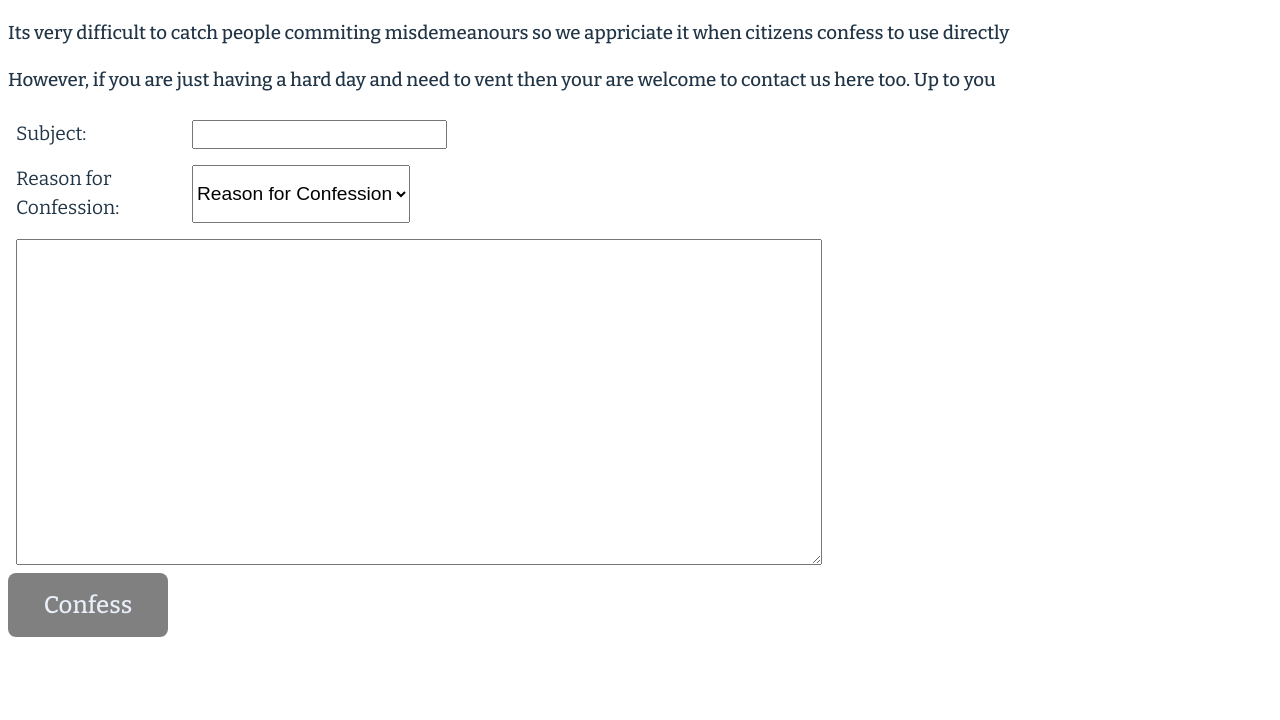
Test: <button/> › When the component is rendered and       Given userInputs are valid,        then button is endabled
In the field labelled "Subject:": (320, 135) [192, 120, 447, 149], type "Helloooo...!!!"
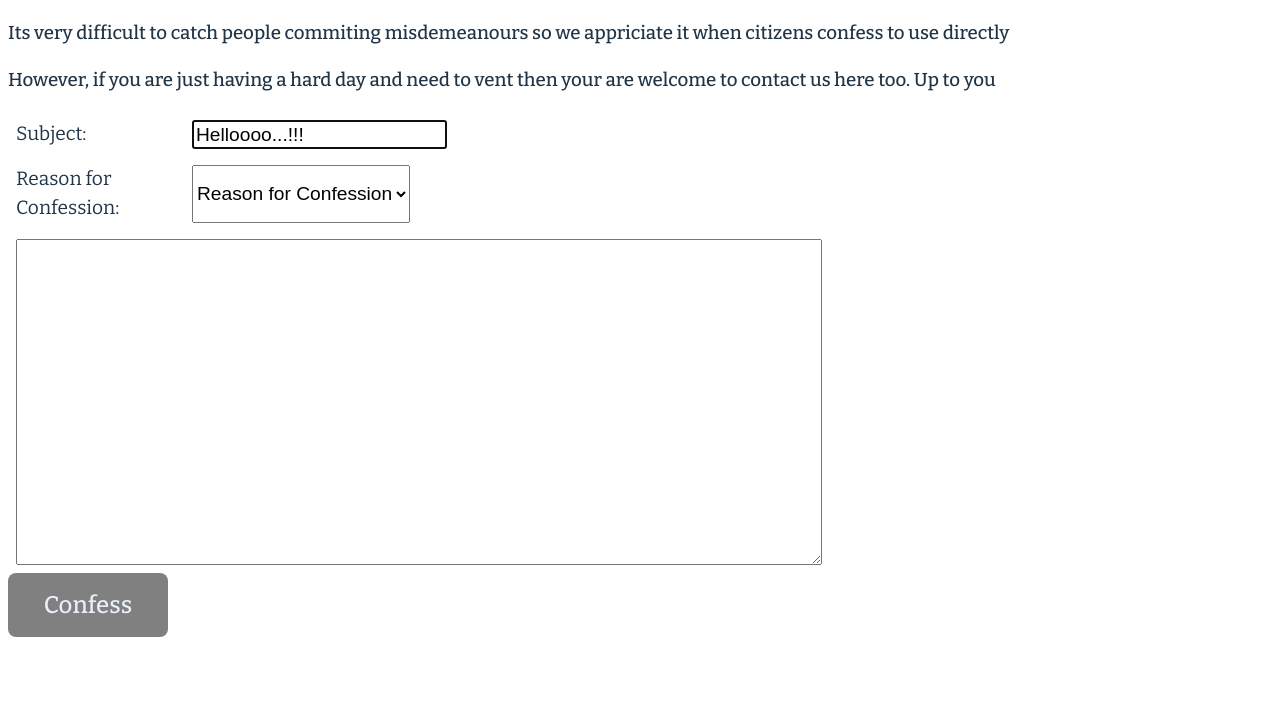
Select "Vegetables" in the dropdown labelled "Reason for Confession:": (301, 194) [192, 165, 410, 223]
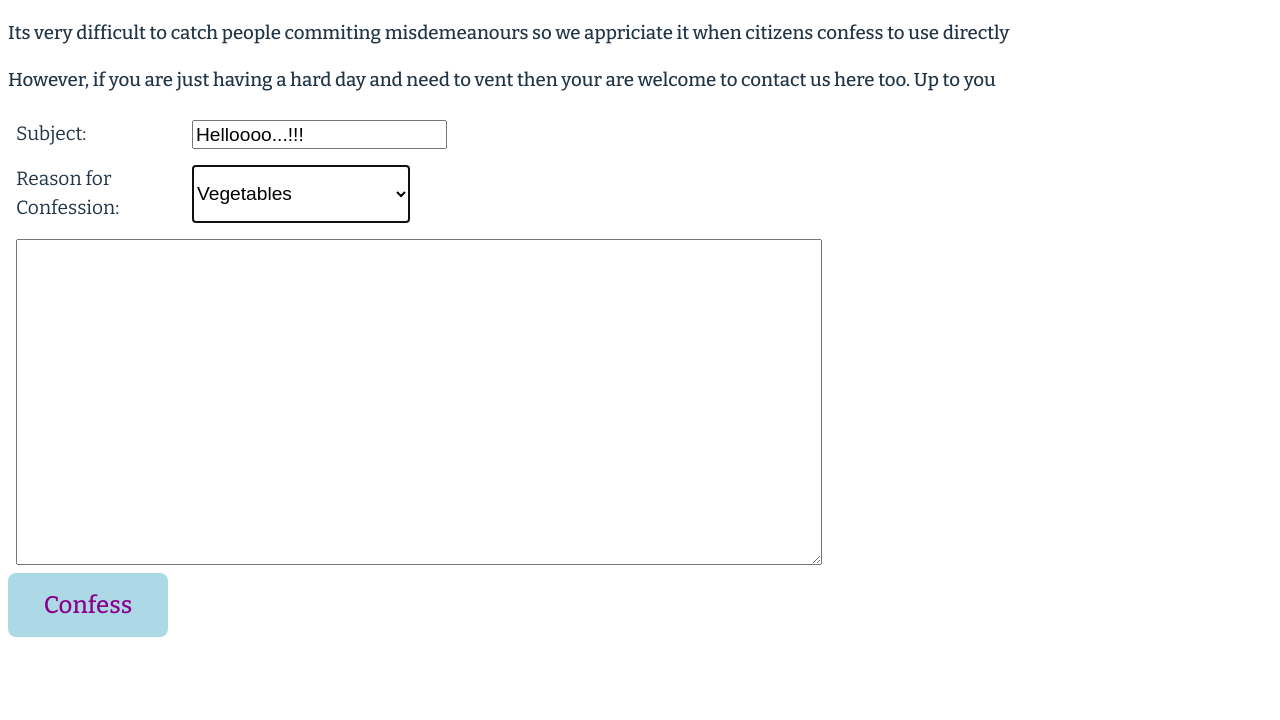
Expected: the button is enabled, [8, 573, 168, 637]
